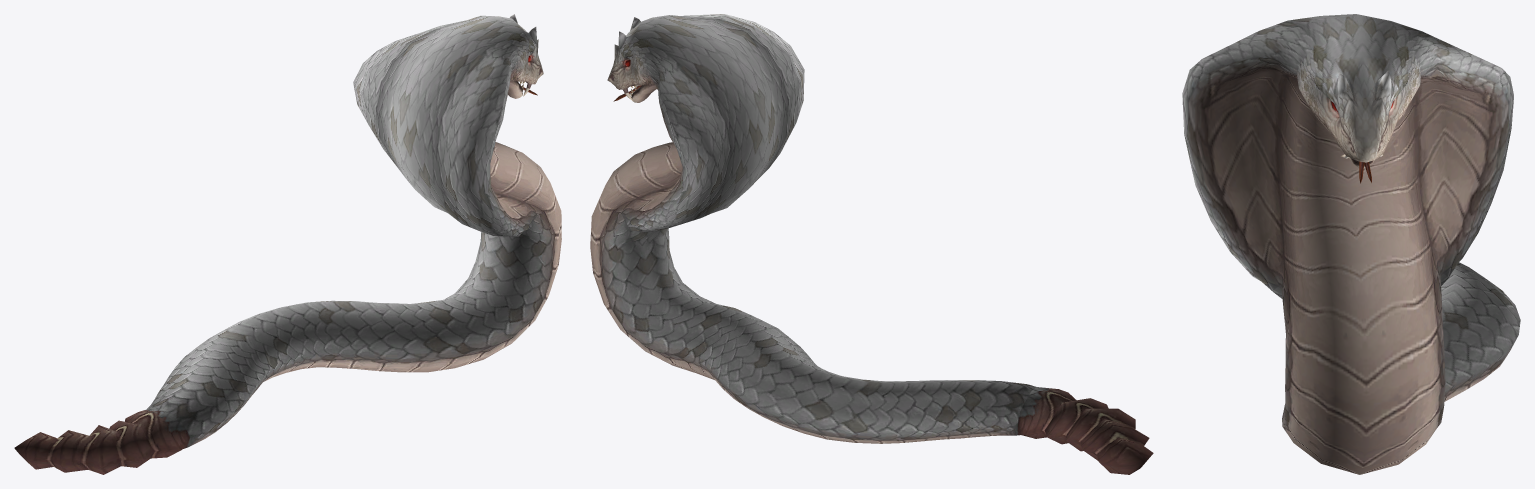
File: sethrakc.obj
3 renders of one model, left to right at view 1: azimuth 30°, elevation 25°; view 2: azimuth 150°, elevation 25°; view 3: azimuth 270°, elevation 25°, orthographic. The views are drawn at different scales.
Parts seen in each view (by area): view 1: creature/giantsnake/giantsnake.m2_Geoset_000; view 2: creature/giantsnake/giantsnake.m2_Geoset_000; view 3: creature/giantsnake/giantsnake.m2_Geoset_000.
Boxes of the visible parts, box(x1,y1,x2,y2) form: creature/giantsnake/giantsnake.m2_Geoset_000: box(14, 14, 561, 474); creature/giantsnake/giantsnake.m2_Geoset_000: box(590, 14, 1153, 474); creature/giantsnake/giantsnake.m2_Geoset_000: box(1182, 14, 1520, 474).
Bounding box in the file's own units: 5.49 × 3.29 × 2.22.
1 material, 1 textured.
